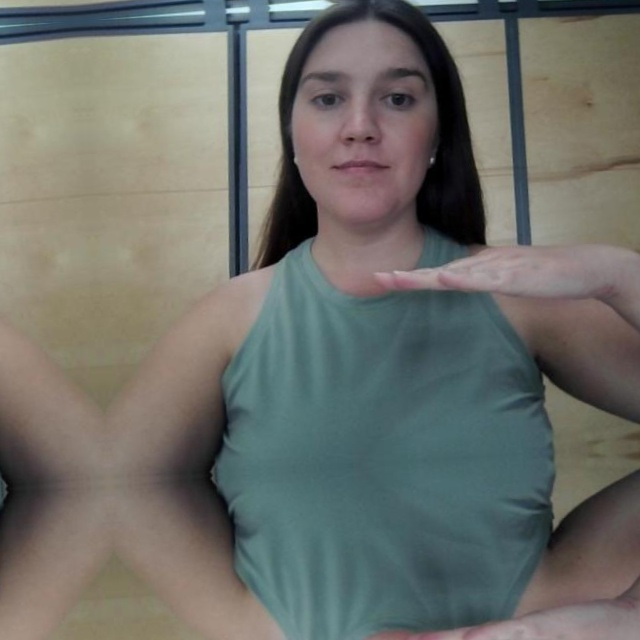Paper: (363, 217, 639, 345)
